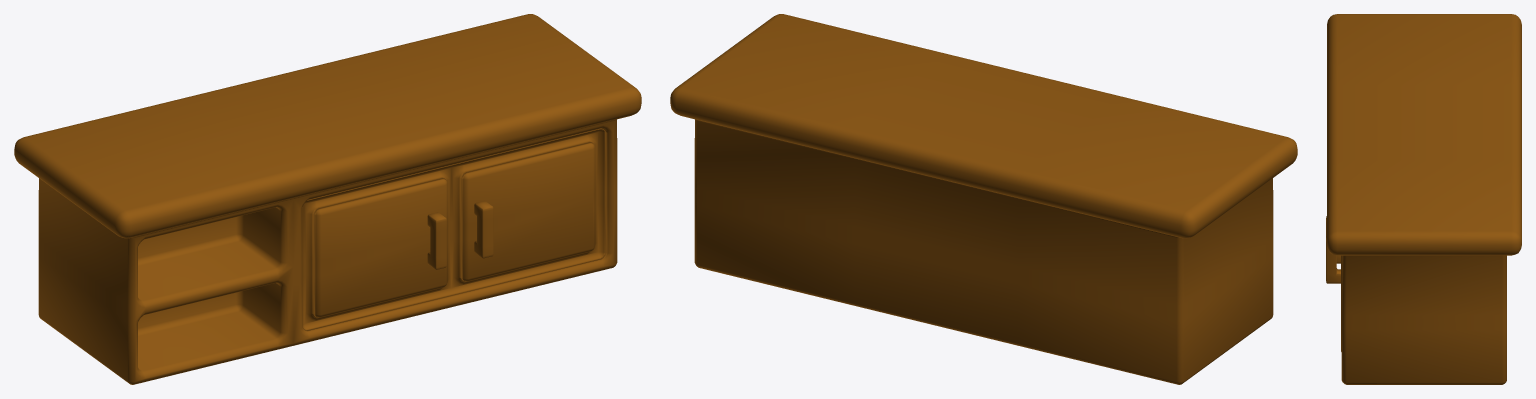
The model's file is cp_counter.fbx.
3 views of the same model, side by side, from view 1: azimuth 30°, elevation 25°; view 2: azimuth 150°, elevation 25°; view 3: azimuth 270°, elevation 25° (orthographic). The views are drawn at different scales.
Visible parts, largest first — view 1: Cube.005, Cube.006; view 2: Cube.005; view 3: Cube.005, Cube.006.
Part boxes in pixels (x1,y1,x2,y2): Cube.005: [14, 14, 641, 384]; Cube.006: [427, 200, 493, 269]; Cube.005: [670, 14, 1297, 384]; Cube.005: [1327, 14, 1521, 384]; Cube.006: [1326, 216, 1340, 283].
Size of the model in its own units: 606 by 223 by 200.
